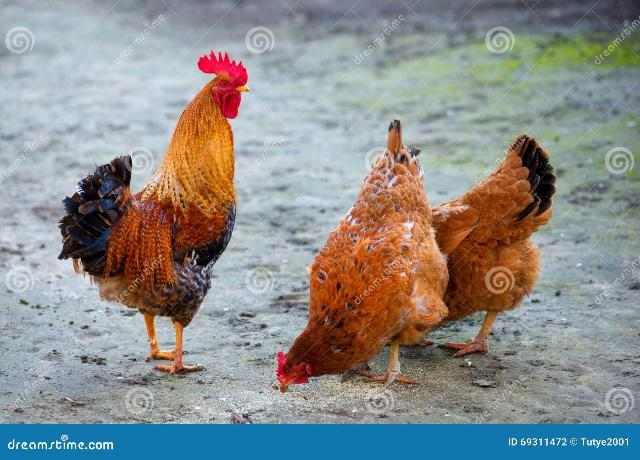Chicken: (59, 49, 249, 376), (277, 118, 447, 393), (427, 131, 555, 357)
